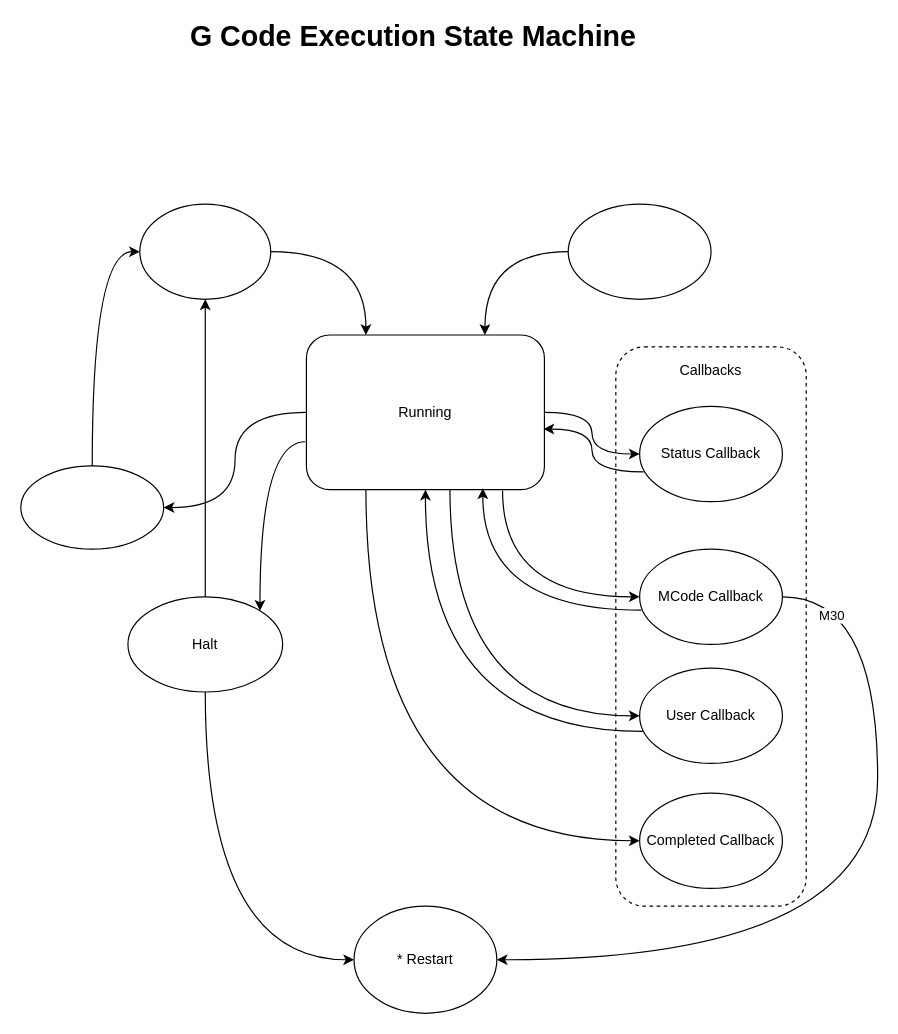
Some shapes in this 898 by 1034 pixel diagram are drawn without their labels. Each missing label, with the centre of its shape:
"* Single Step" belongs at (x=639, y=251).
"* Start/Resume" belongs at (x=205, y=251).
"Feed Hold" belongs at (x=92, y=507).
